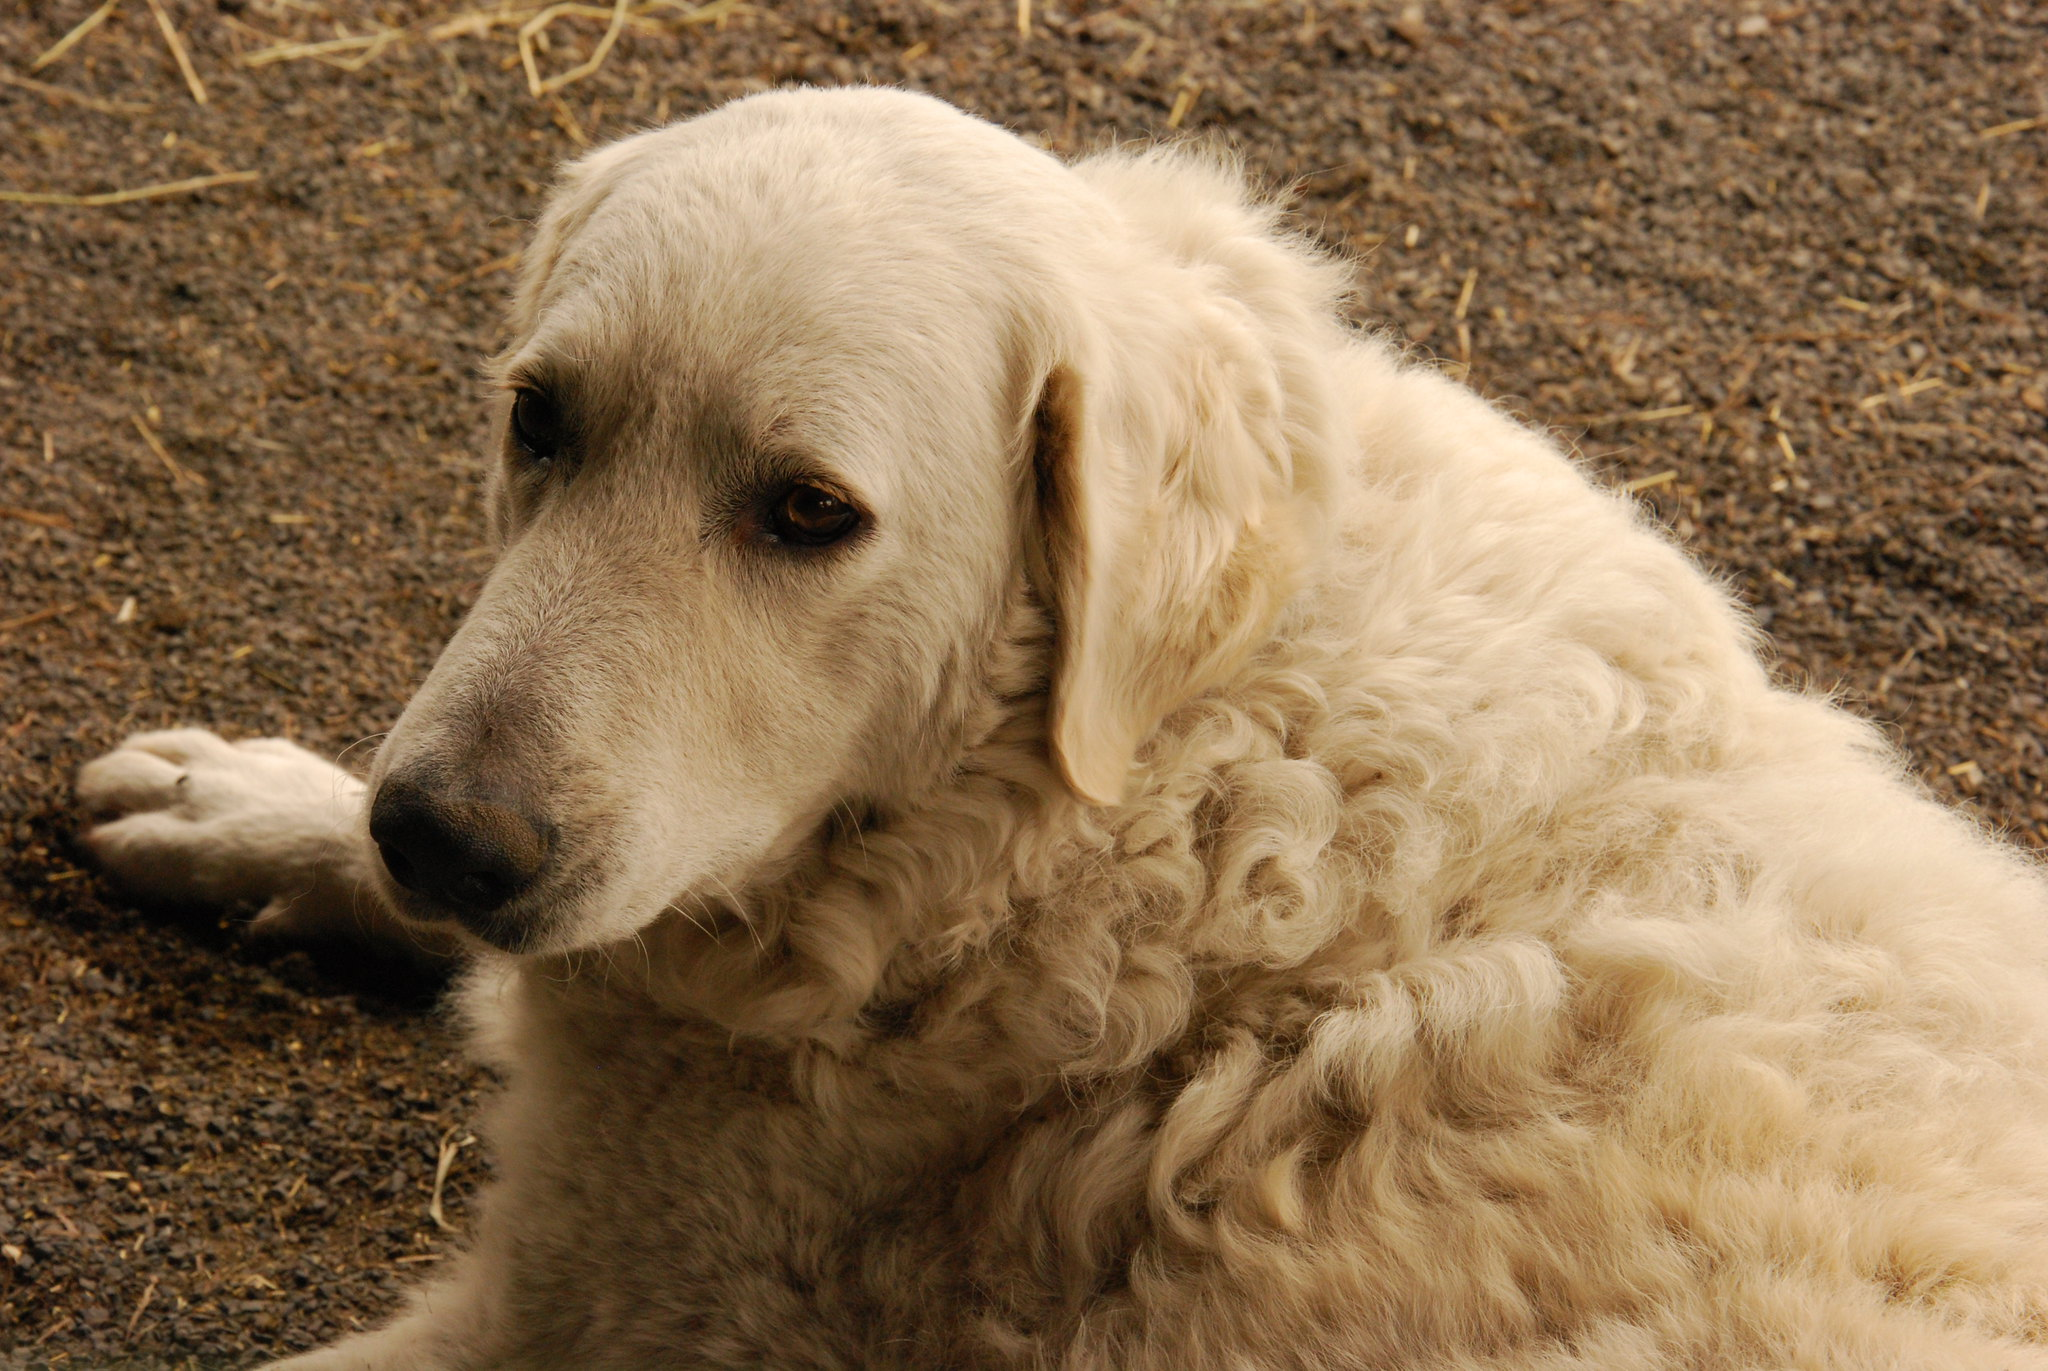dog: (188, 84, 2048, 1360)
